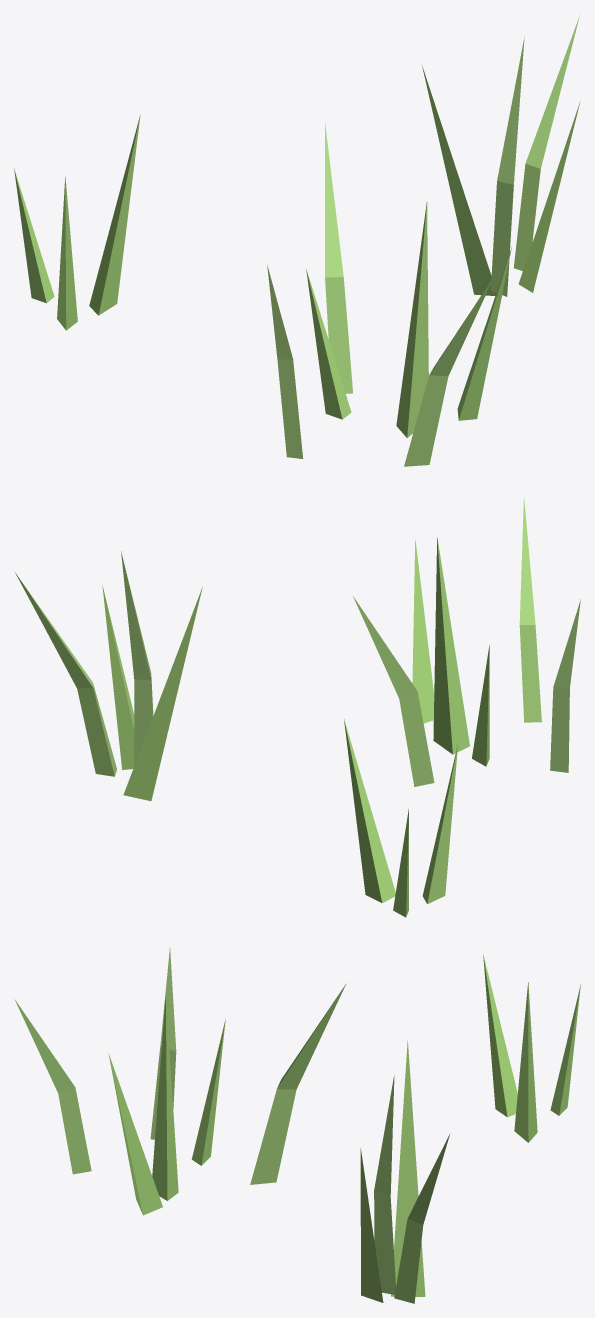
The model's file is Grass3D_a_07.fbx.
3 views of the same model, one above another, from view 1: azimuth 30°, elevation 25°; view 2: azimuth 150°, elevation 25°; view 3: azimuth 270°, elevation 25° (orthographic). The views are drawn at different scales.
Visible parts, largest first — view 1: Grass3D_a_07; view 2: Grass3D_a_07; view 3: Grass3D_a_07.
Boxes of the visible parts, x1=… form: Grass3D_a_07: x1=14, y1=15, x2=579, y2=466; Grass3D_a_07: x1=15, y1=497, x2=580, y2=917; Grass3D_a_07: x1=15, y1=947, x2=580, y2=1303.
Bounding box in the file's own units: 117 × 57.15 × 123.
